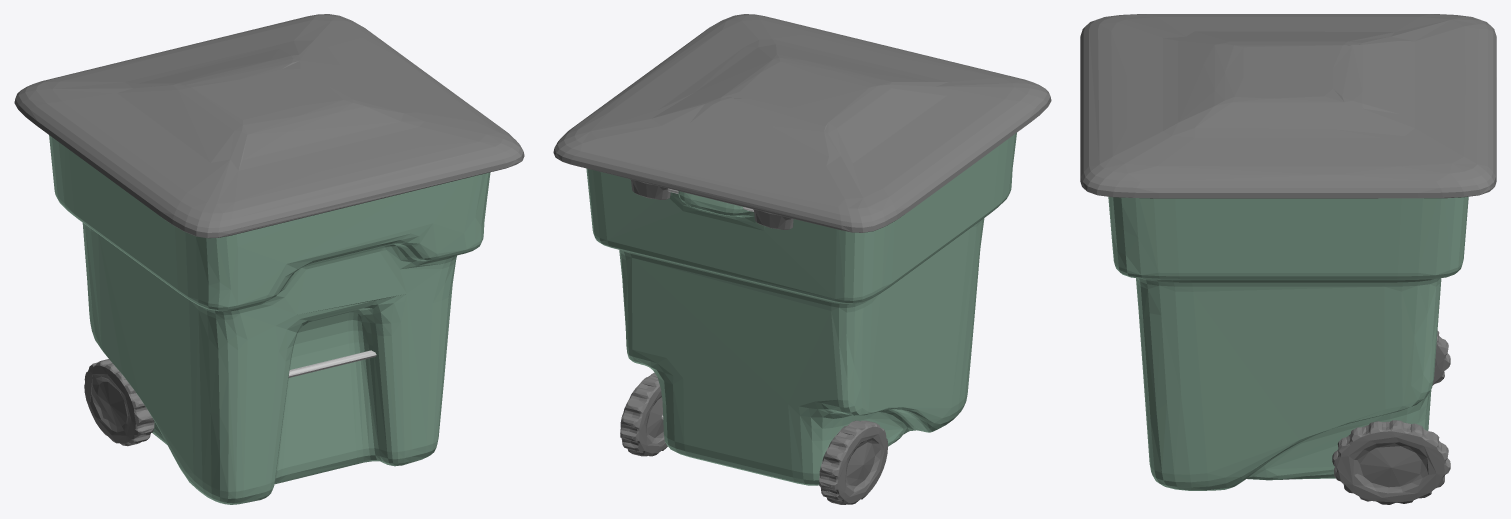
Rendered from sh-kl-residential-trashcan.glb.
3 views of the same model, side by side, from view 1: azimuth 30°, elevation 25°; view 2: azimuth 150°, elevation 25°; view 3: azimuth 270°, elevation 25° (orthographic). The views are drawn at different scales.
Visible parts, largest first — view 1: residential_trash_residential_trash_PLASTIC_green, residential_trash_residential_trash_PLASTIC_black, residential_trash_residential_trash_METAL_aluminum; view 2: residential_trash_residential_trash_PLASTIC_green, residential_trash_residential_trash_PLASTIC_black; view 3: residential_trash_residential_trash_PLASTIC_black, residential_trash_residential_trash_PLASTIC_green.
Part boxes in pixels (x1,y1,x2,y2): residential_trash_residential_trash_PLASTIC_green: (49, 135, 490, 504); residential_trash_residential_trash_PLASTIC_black: (14, 14, 524, 446); residential_trash_residential_trash_METAL_aluminum: (288, 350, 376, 377); residential_trash_residential_trash_PLASTIC_green: (586, 133, 1016, 485); residential_trash_residential_trash_PLASTIC_black: (553, 14, 1051, 504); residential_trash_residential_trash_PLASTIC_black: (1080, 14, 1496, 504); residential_trash_residential_trash_PLASTIC_green: (1108, 196, 1468, 490).
Bounding box in the file's own units: 0.9994 × 0.9993 × 1.
